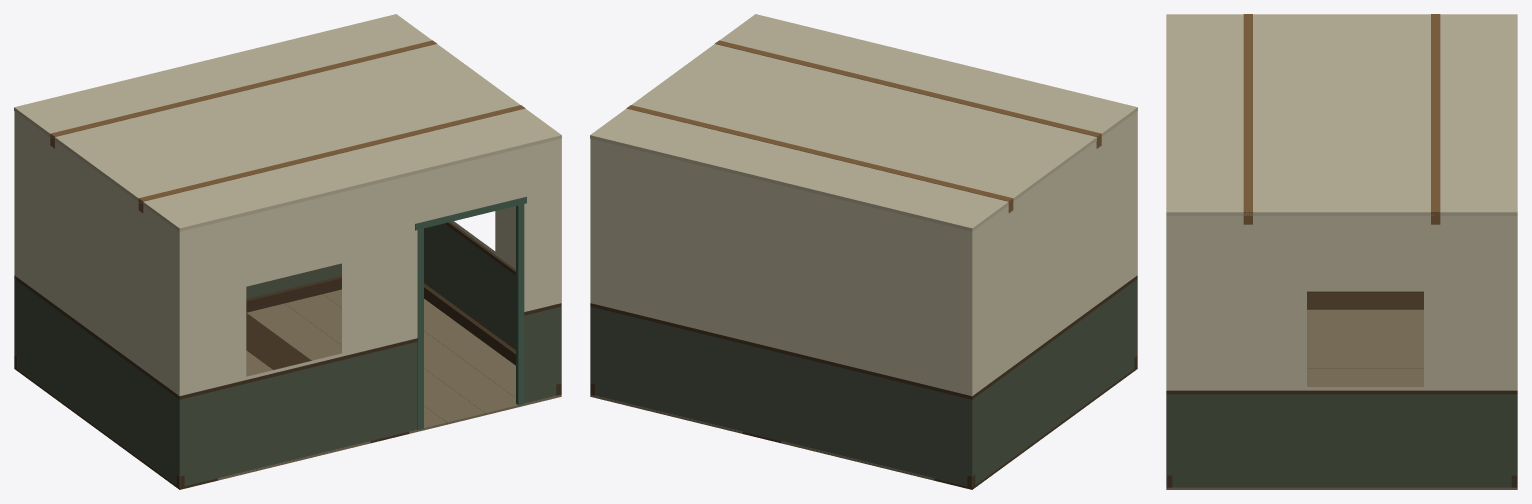
The model's file is SM_FieldStation_Hut_Interior_LOD2.fbx.
3 views of the same model, side by side, from view 1: azimuth 30°, elevation 25°; view 2: azimuth 150°, elevation 25°; view 3: azimuth 270°, elevation 25° (orthographic). The views are drawn at different scales.
Parts seen in each view (by area): view 1: SM_FieldStation_Hut_Interior_LOD2; view 2: SM_FieldStation_Hut_Interior_LOD2; view 3: SM_FieldStation_Hut_Interior_LOD2.
Boxes of the visible parts, bbox=[...] form: SM_FieldStation_Hut_Interior_LOD2: bbox=[14, 14, 561, 489]; SM_FieldStation_Hut_Interior_LOD2: bbox=[590, 14, 1137, 489]; SM_FieldStation_Hut_Interior_LOD2: bbox=[1166, 14, 1517, 489].
Bounding box in the file's own units: 4 × 3 × 2.62.
